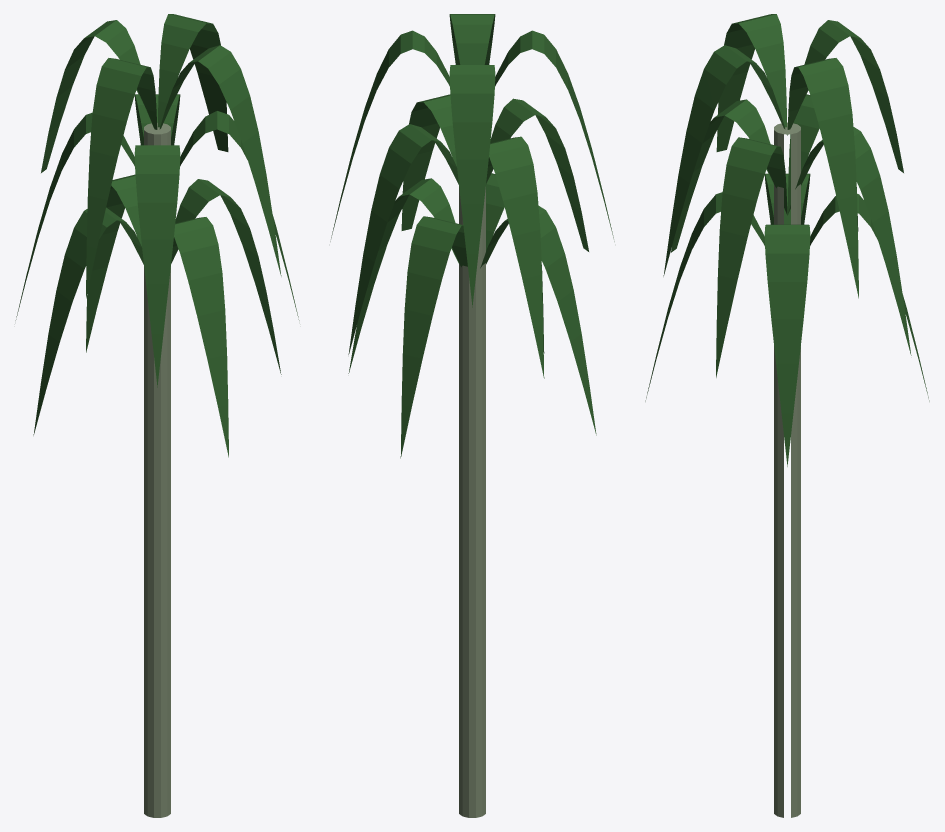
Rendered from fan-tree.glb.
The picture shows the model from 3 angles, left to right: view 1: azimuth 30°, elevation 25°; view 2: azimuth 150°, elevation 25°; view 3: azimuth 270°, elevation 25°; orthographic projection.
Bounding box in the file's own units: 1.96 × 5.82 × 1.96.
